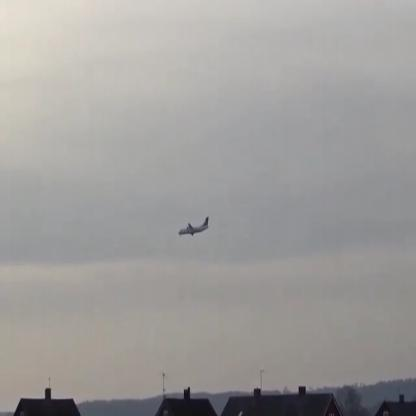CIV_Plane: (177, 214, 210, 237)
